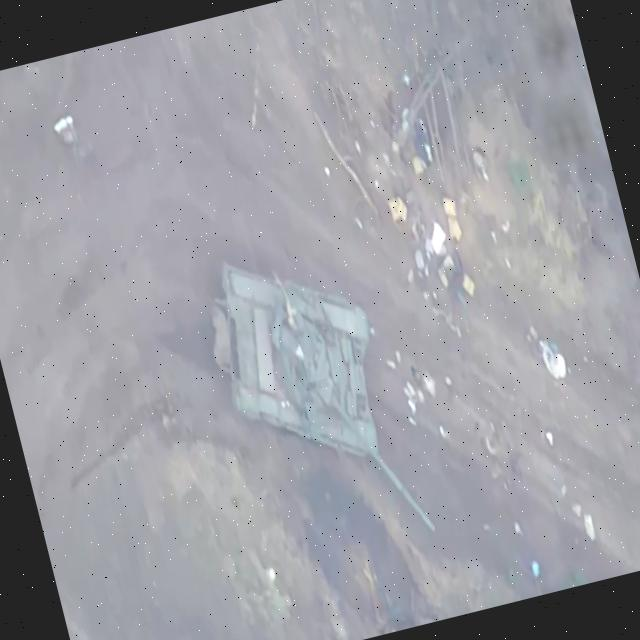MBT: (198, 223, 446, 582)
